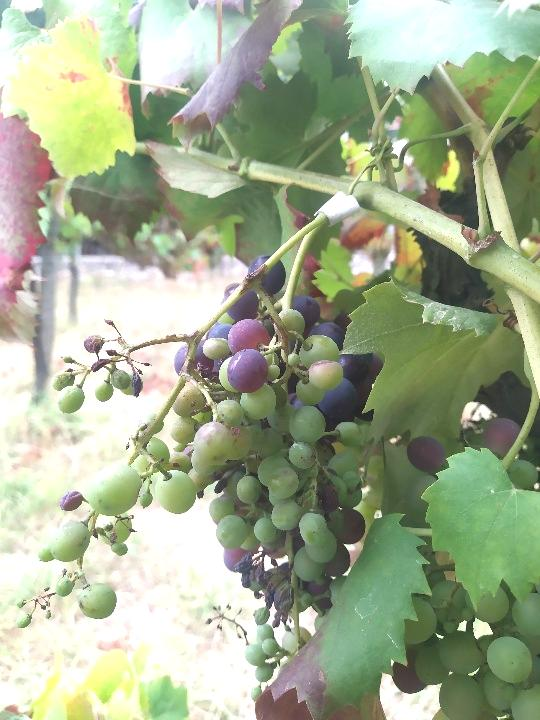grape: (14, 251, 378, 704)
